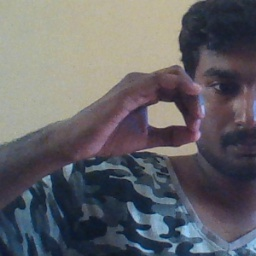O: (76, 58, 211, 165)
